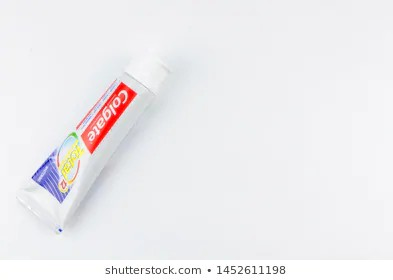colgate-total-150gm: (14, 41, 180, 236)
